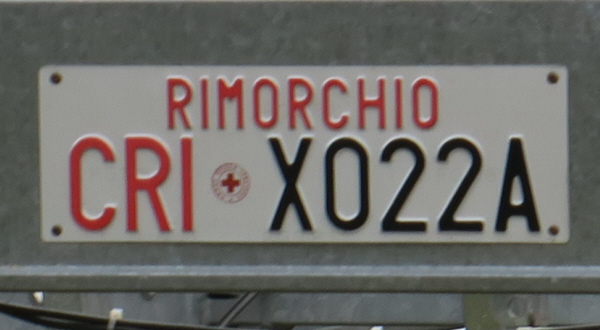license_plate: (37, 62, 572, 244)
